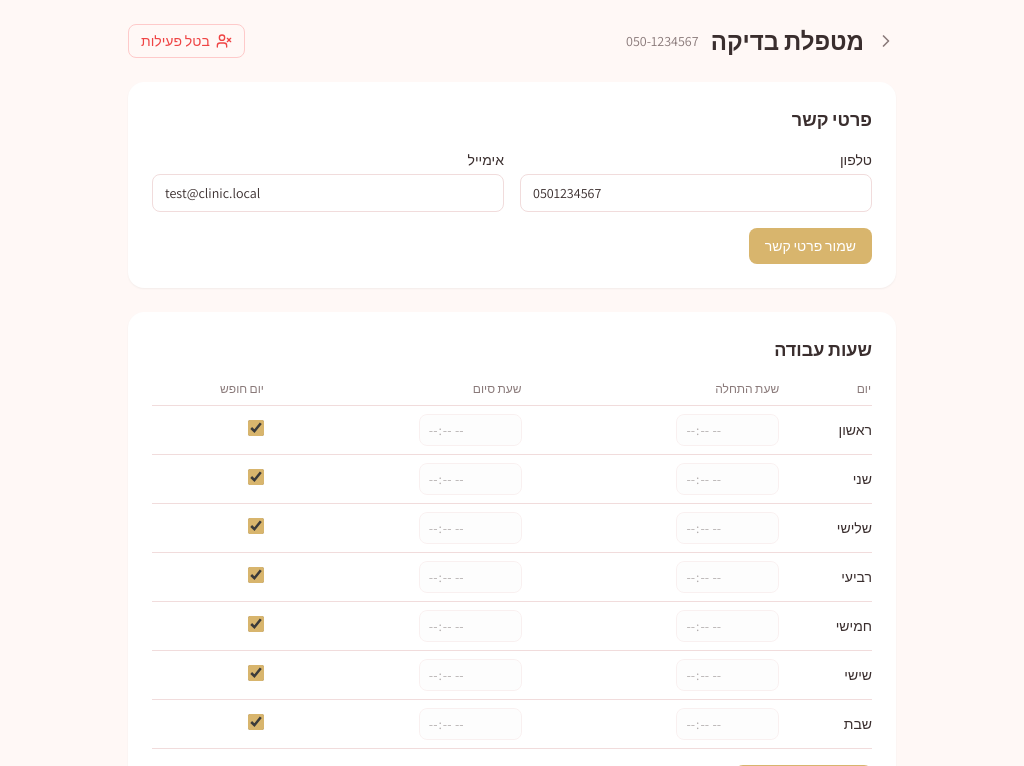
TherapistDetail (Phase 012 — deactivate action, read-only mode, async wiring) › saves contact info via updateTherapist and shows a success message
Click the button "שמור פרטי קשר" at (810,246), box [749, 228, 872, 264]
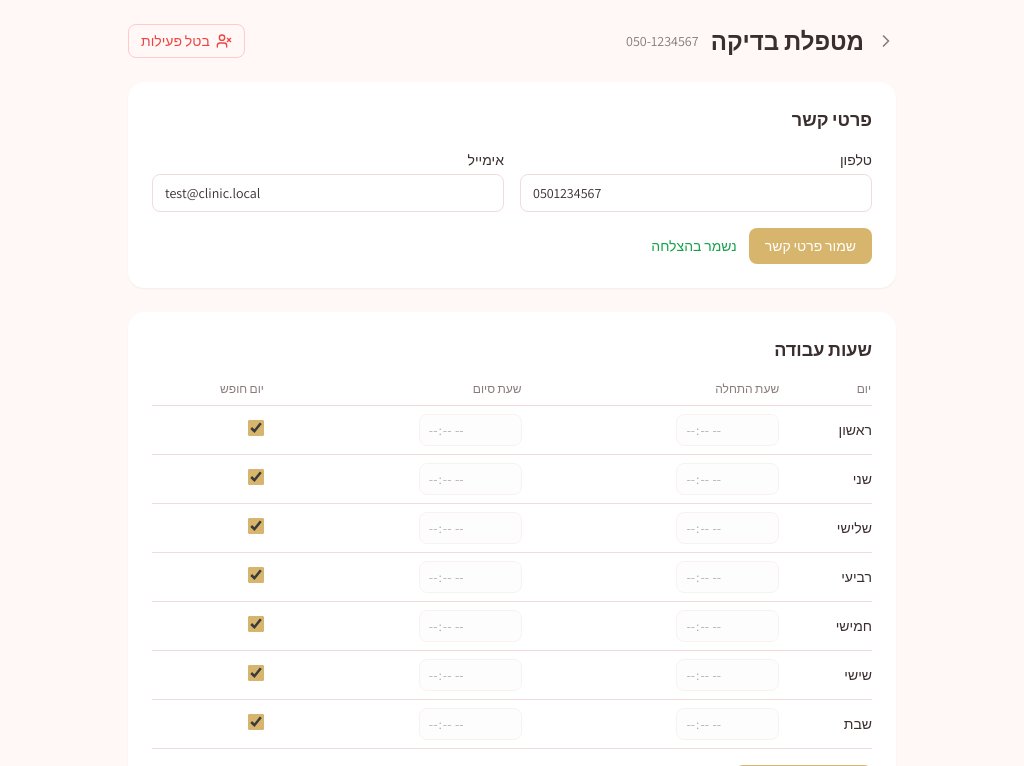
Check: the text "נשמר בהצלחה" is shown, box [651, 236, 737, 256]
